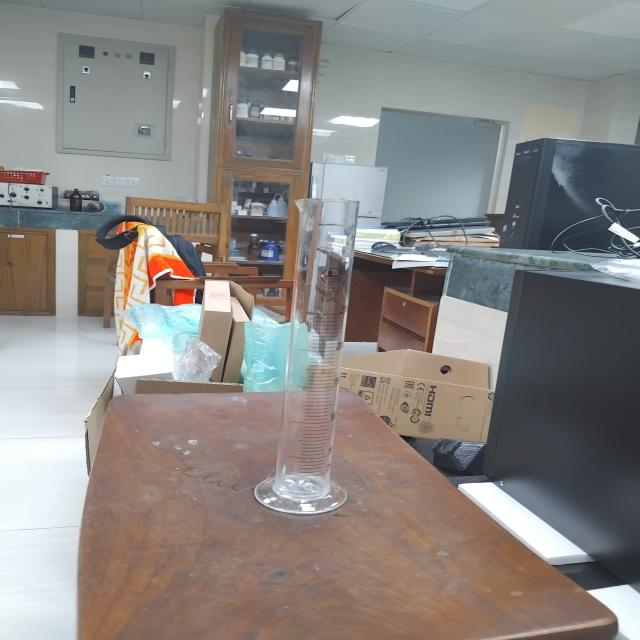Measuring_Cylinder: (242, 150, 394, 548)
